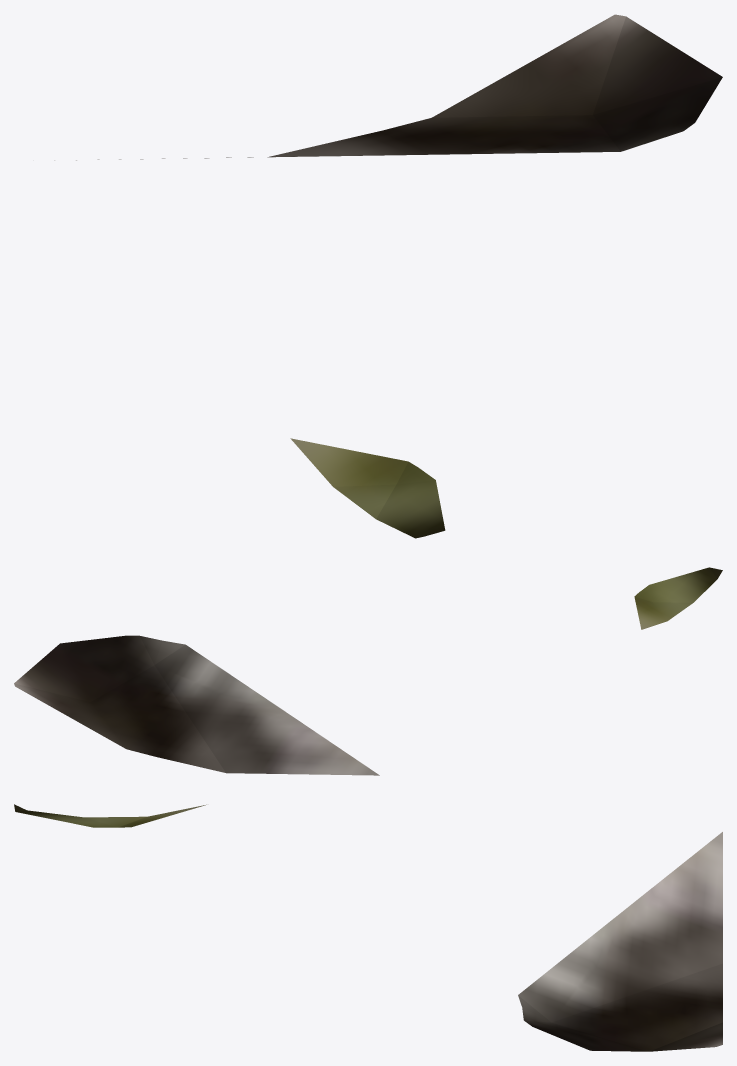
3 renders of one model, top to bottom at view 1: azimuth 30°, elevation 25°; view 2: azimuth 150°, elevation 25°; view 3: azimuth 270°, elevation 25°, orthographic. The views are drawn at different scales.
Size of the model in its own units: 0.1592 by 0.013 by 0.1934.
1 material, 1 textured.
